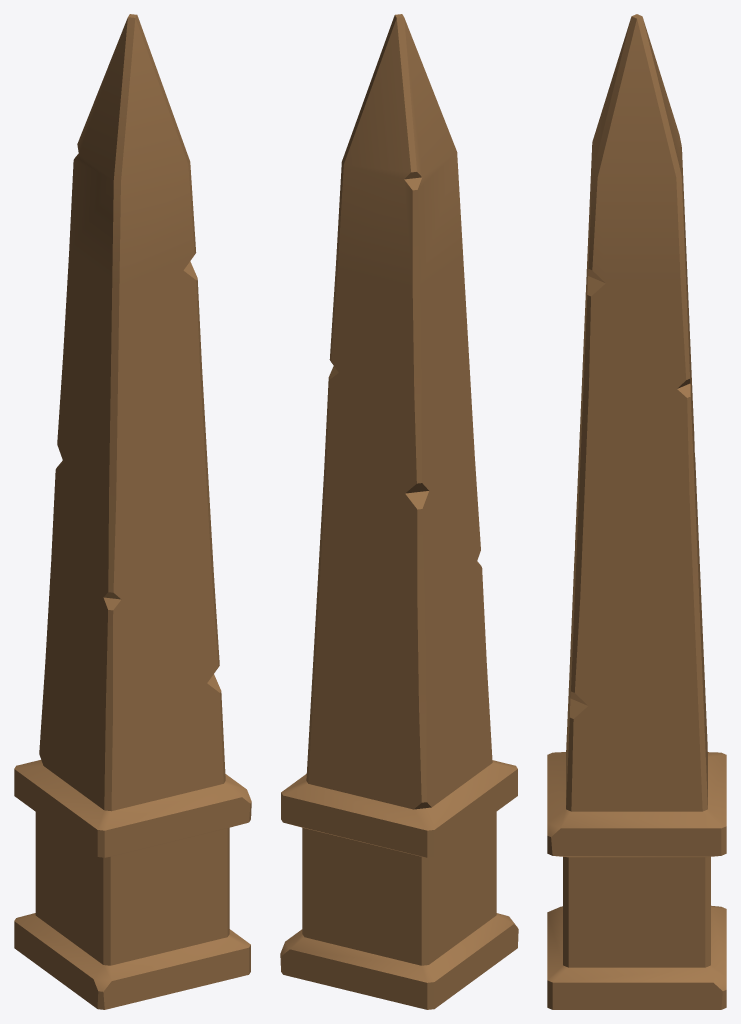
Rendered from CleoNeedle.fbx.
The picture shows the model from 3 angles, left to right: view 1: azimuth 30°, elevation 25°; view 2: azimuth 150°, elevation 25°; view 3: azimuth 270°, elevation 25°; orthographic projection.
Visible parts, largest first — view 1: Desert_Obelisk_Stand; view 2: Desert_Obelisk_Stand; view 3: Desert_Obelisk_Stand.
Part boxes in pixels (x1=…): Desert_Obelisk_Stand: x1=14, y1=14, x2=251, y2=1009; Desert_Obelisk_Stand: x1=280, y1=14, x2=518, y2=1009; Desert_Obelisk_Stand: x1=547, y1=14, x2=726, y2=1009.
Size of the model in its own units: 100 by 589 by 100.
